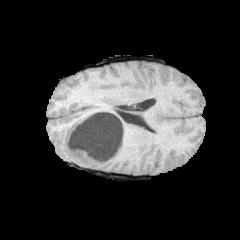glioma: (58, 106, 128, 165)
